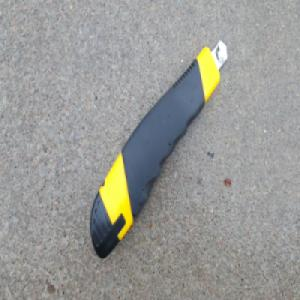Cutter: (89, 39, 229, 261)
